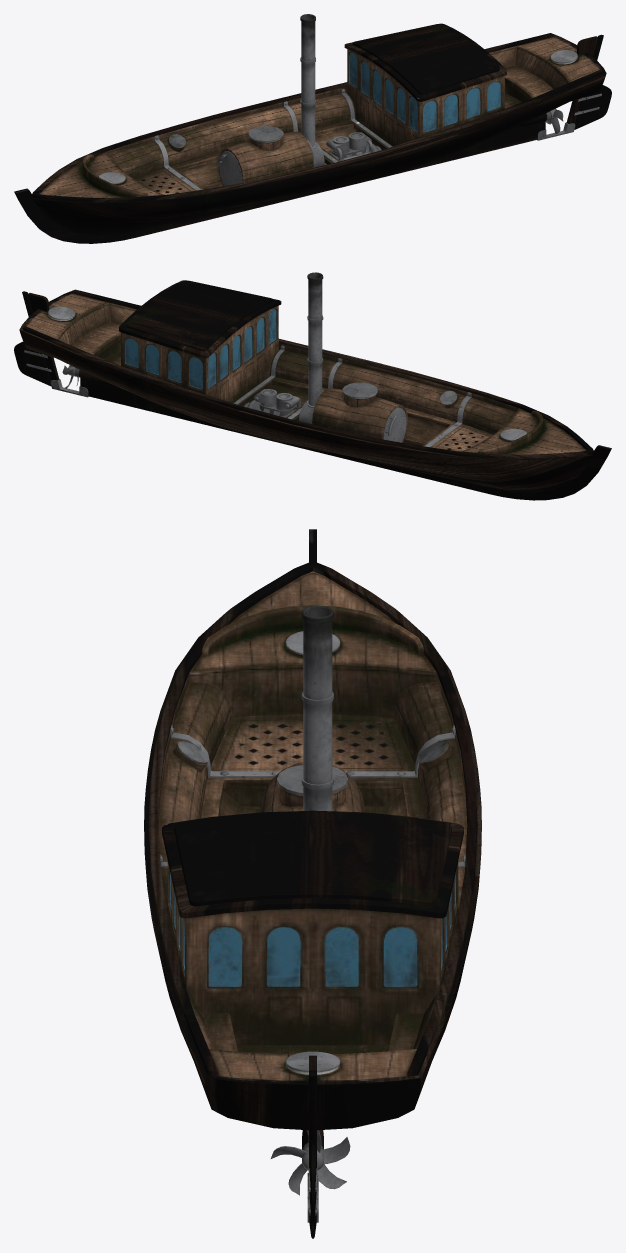
3 renders of one model, top to bottom at view 1: azimuth 30°, elevation 25°; view 2: azimuth 150°, elevation 25°; view 3: azimuth 270°, elevation 25°, orthographic. The views are drawn at different scales.
Parts seen in each view (by area): view 1: GO_Node_01, GO_Node_05, GO_Node_03, GO_Node_02, GO_Node_07, GO_Node_00, GO_Node_04, GO_Node_06; view 2: GO_Node_01, GO_Node_05, GO_Node_02, GO_Node_03, GO_Node_07, GO_Node_00, GO_Node_04, GO_Node_06; view 3: GO_Node_01, GO_Node_06, GO_Node_05, GO_Node_04, GO_Node_07, GO_Node_02, GO_Node_00, GO_Node_03.
Boxes of the visible parts, x1,y1,x2,y2 form: GO_Node_01: (79, 125, 256, 238); GO_Node_05: (484, 33, 611, 151); GO_Node_03: (246, 14, 407, 198); GO_Node_02: (175, 107, 329, 215); GO_Node_07: (344, 33, 463, 136); GO_Node_00: (14, 158, 140, 243); GO_Node_04: (327, 82, 537, 180); GO_Node_06: (396, 23, 506, 121); GO_Node_01: (369, 382, 546, 495); GO_Node_05: (14, 289, 141, 407); GO_Node_02: (296, 363, 450, 472); GO_Node_03: (218, 272, 380, 454); GO_Node_07: (162, 289, 281, 393); GO_Node_00: (485, 415, 611, 500); GO_Node_04: (88, 339, 298, 436); GO_Node_06: (119, 280, 229, 378); GO_Node_01: (151, 624, 474, 815); GO_Node_06: (170, 852, 455, 983); GO_Node_05: (179, 1012, 446, 1238); GO_Node_04: (149, 891, 476, 1053); GO_Node_07: (162, 810, 463, 942); GO_Node_02: (144, 745, 481, 829); GO_Node_00: (195, 529, 430, 641); GO_Node_03: (144, 605, 481, 907).
Bounding box in the file's own units: 5243 × 1487 × 1285.
